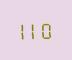one: (18, 20, 28, 40), (30, 20, 40, 39)
zero: (41, 19, 51, 39)
